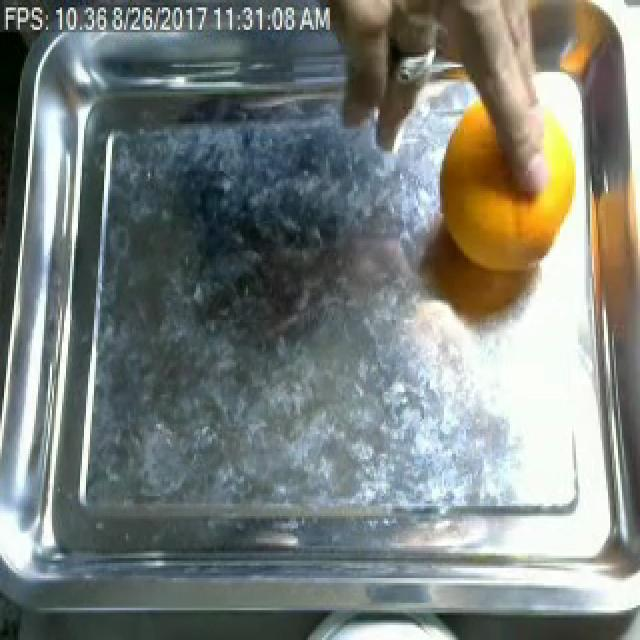Fruit: (424, 45, 590, 337), (546, 2, 626, 90)
